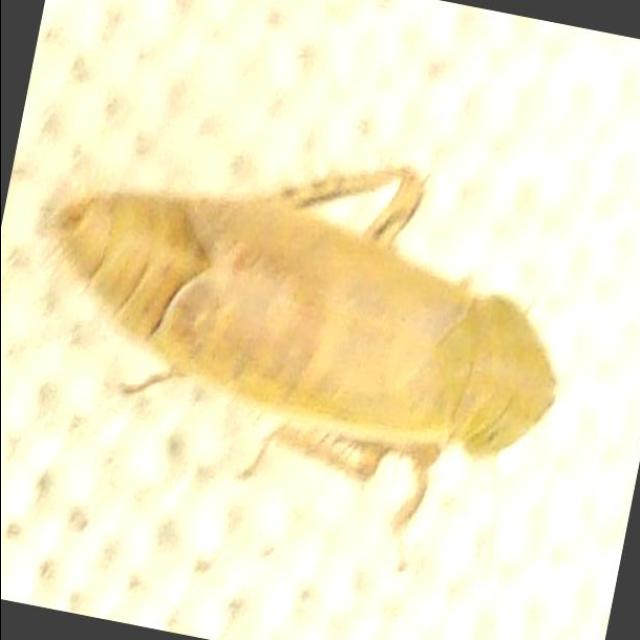green leaf hopper: (56, 170, 556, 531)
